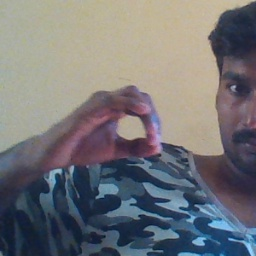O: (39, 79, 167, 178)
